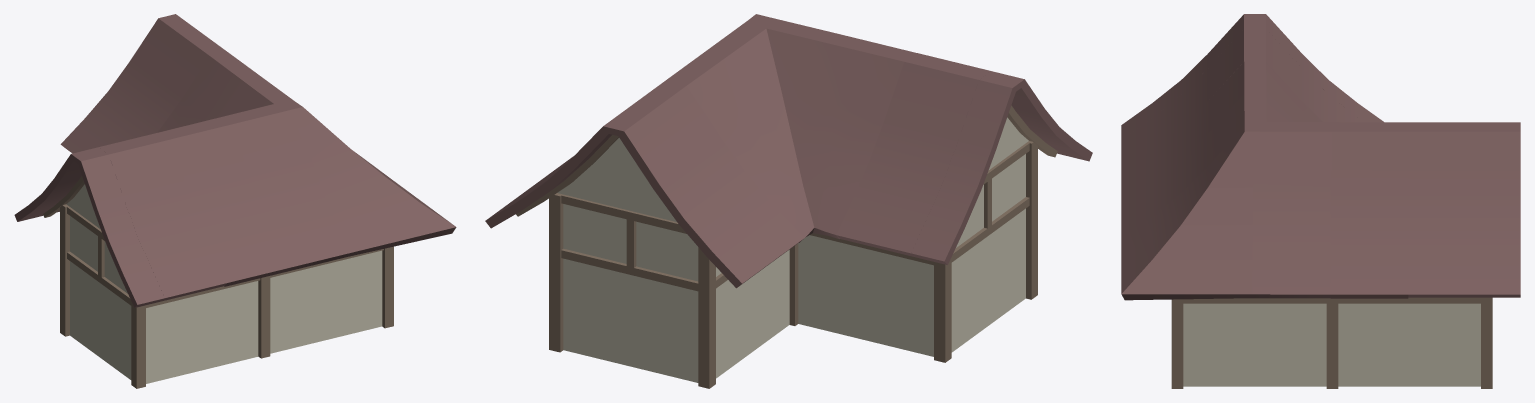
Rendered from 8 x 8 L shape house.fbx.
3 views of the same model, side by side, from view 1: azimuth 30°, elevation 25°; view 2: azimuth 150°, elevation 25°; view 3: azimuth 270°, elevation 25° (orthographic). The views are drawn at different scales.
Parts seen in each view (by area): view 1: Column_8x40sq91; view 2: Column_8x40sq91; view 3: Column_8x40sq91.
Part boxes in pixels (x1,y1,x2,y2): Column_8x40sq91: (14,14,456,388); Column_8x40sq91: (485,14,1092,388); Column_8x40sq91: (1121,14,1520,388).
Size of the model in its own units: 2069 by 1290 by 2059.
